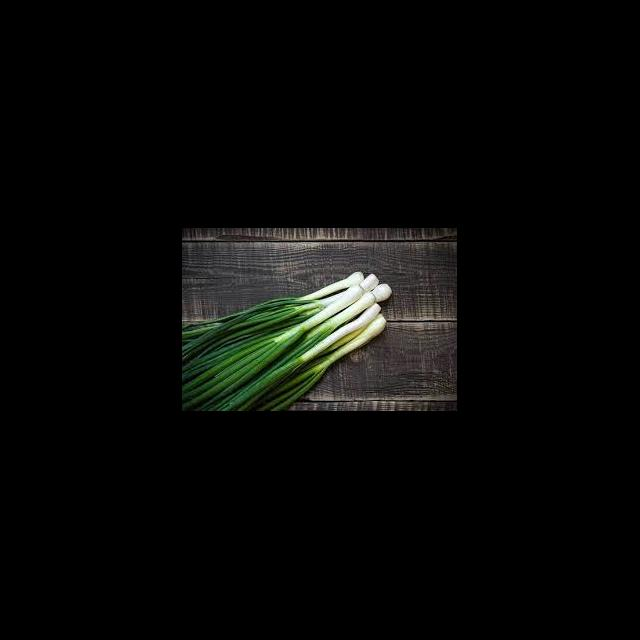green_onion: (182, 259, 394, 412)
